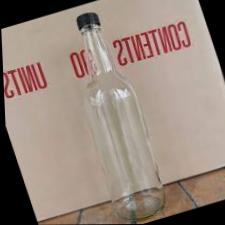glass: (34, 0, 190, 224)
